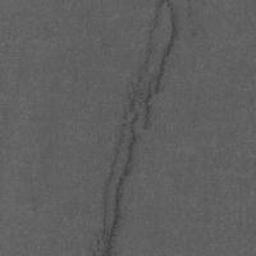Inclusion: (87, 0, 182, 256), (187, 0, 195, 18)
